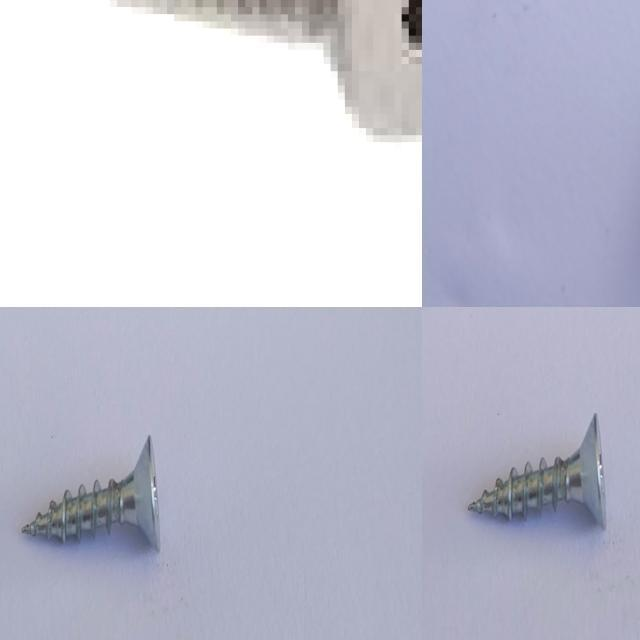Screw: (22, 435, 160, 550), (468, 412, 606, 527)
